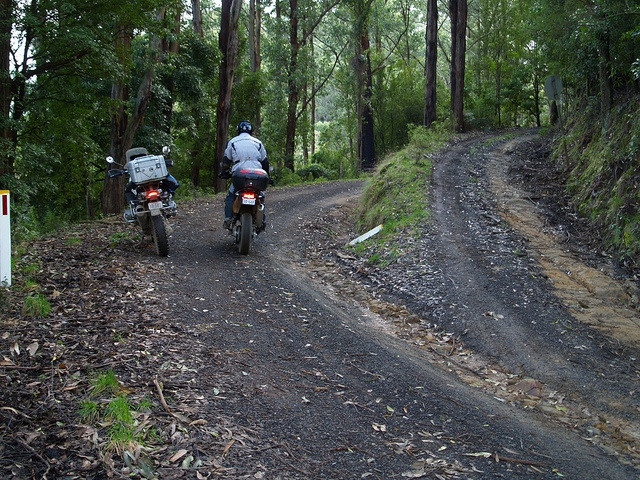non-vehicle: (105, 145, 178, 256), (227, 158, 269, 254)
